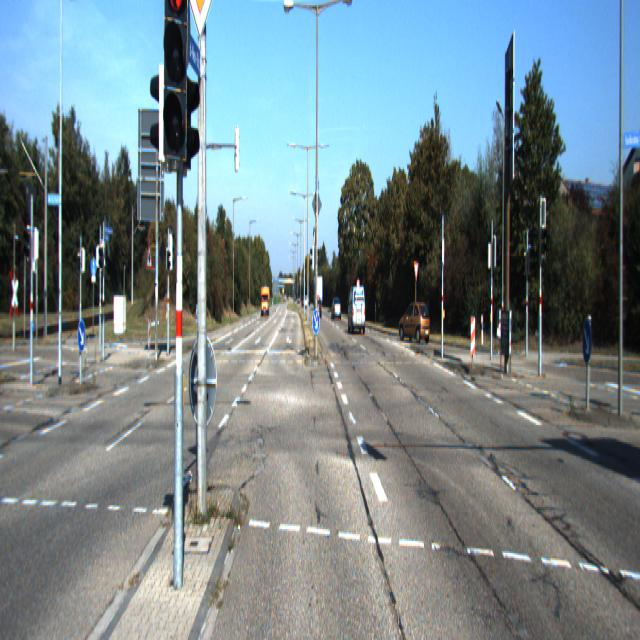Car: (398, 299, 431, 343), (348, 284, 366, 334)
